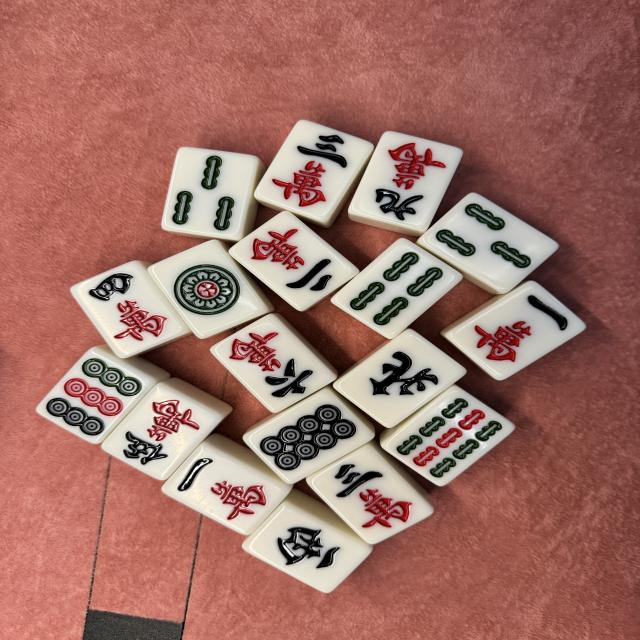hwn: (332, 328, 467, 428)
hww: (242, 502, 373, 593)
sb3: (417, 192, 560, 294), (162, 147, 258, 240)
sb4: (332, 238, 463, 340)
sb9: (380, 386, 515, 487)
sc1: (445, 281, 586, 380), (160, 442, 291, 535)
sc2: (230, 210, 360, 312)
sc3: (306, 444, 433, 545), (253, 120, 374, 222)
sc4: (70, 260, 190, 358)
sc5: (100, 382, 223, 480)
sc6: (210, 313, 336, 413)
sc9: (348, 130, 463, 232)
sd1: (148, 240, 270, 339)
sd8: (243, 388, 375, 485)
sd9: (34, 348, 155, 444)
